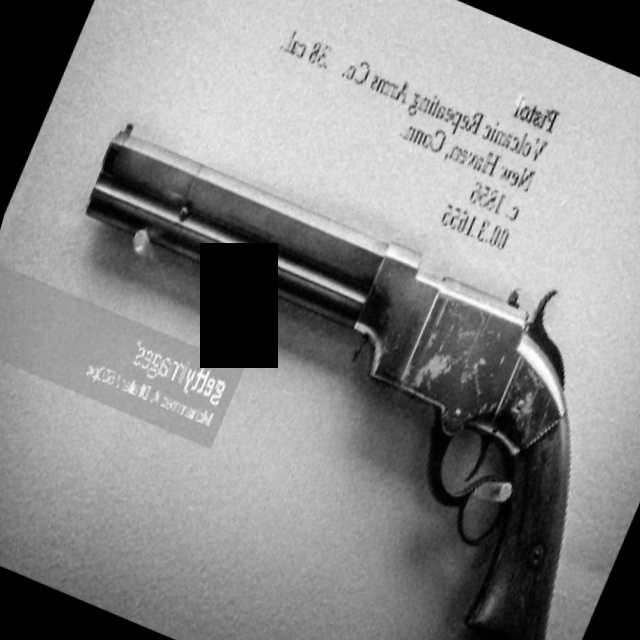gun: (0, 93, 640, 640)
